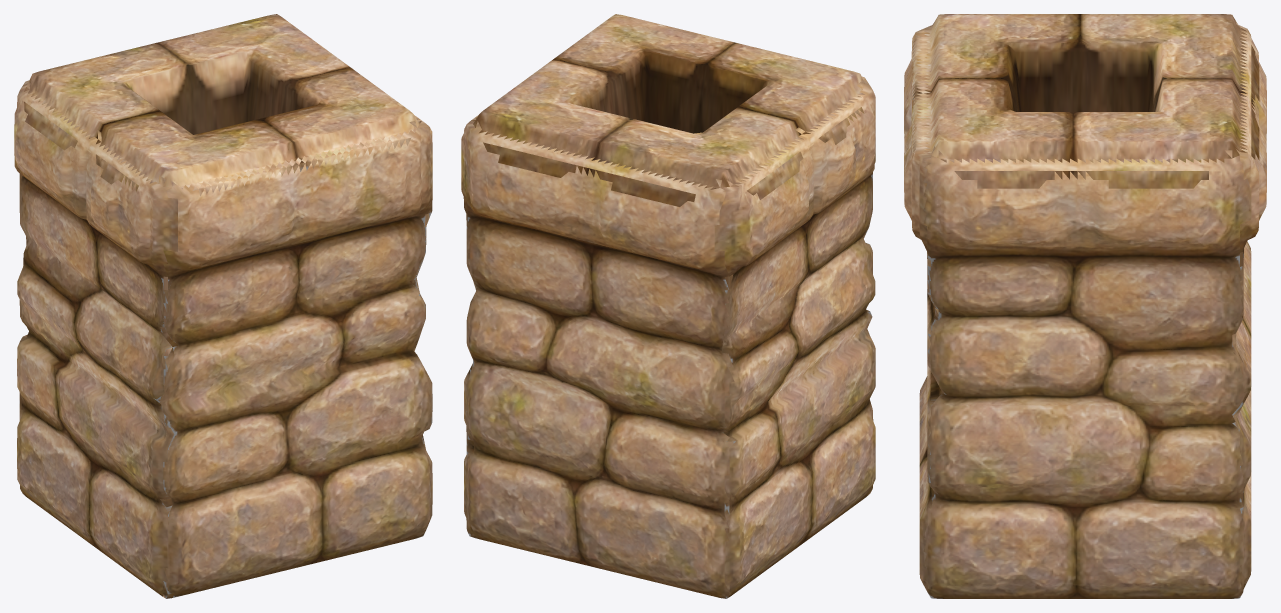
The model's file is house-chimney.glb.
The picture shows the model from 3 angles, left to right: view 1: azimuth 30°, elevation 25°; view 2: azimuth 150°, elevation 25°; view 3: azimuth 270°, elevation 25°; orthographic projection. The views are drawn at different scales.
Bounding box in the file's own units: 0.7436 × 1 × 0.7232.
1 material, 1 textured.
